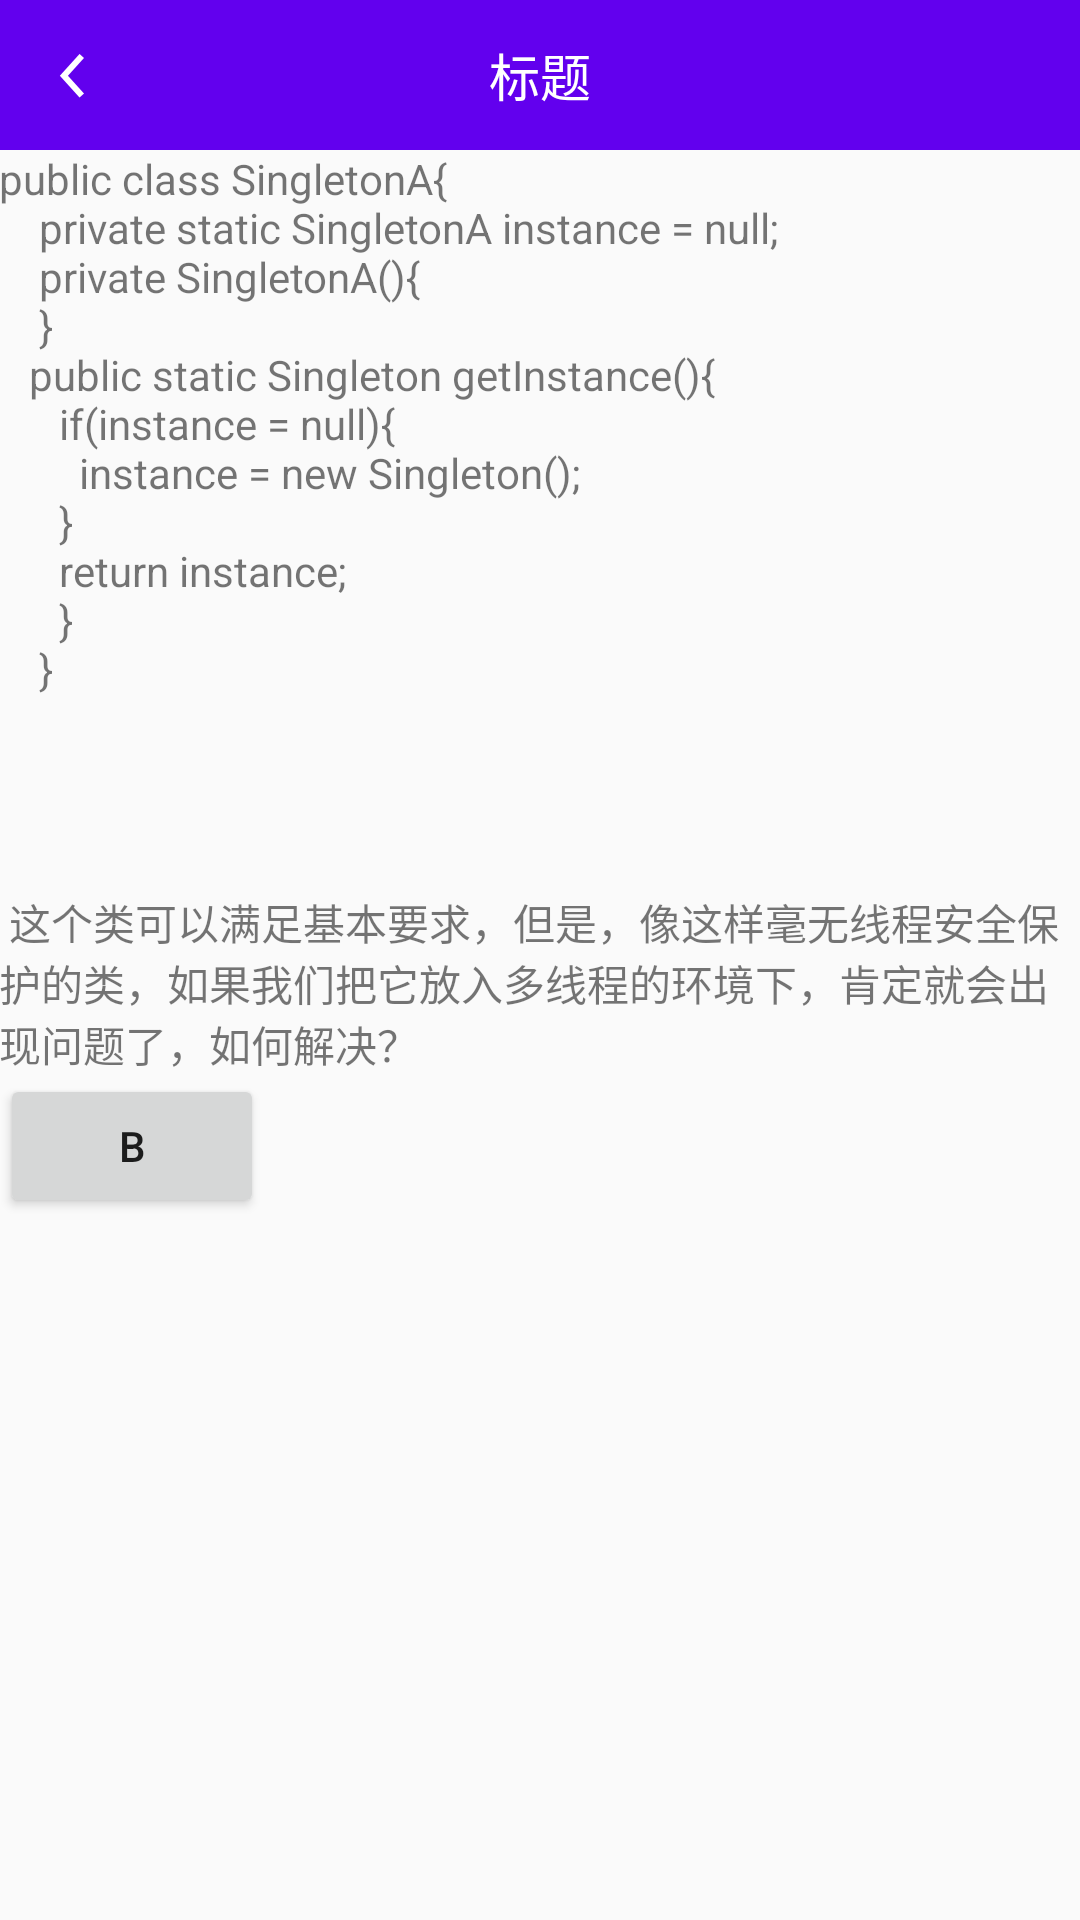

Named icons in this screenshot (1080 × 1920) and their centers, [x,y]:
back: [72,76]
